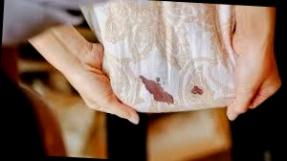blood: (141, 77, 174, 105), (192, 86, 203, 95)
